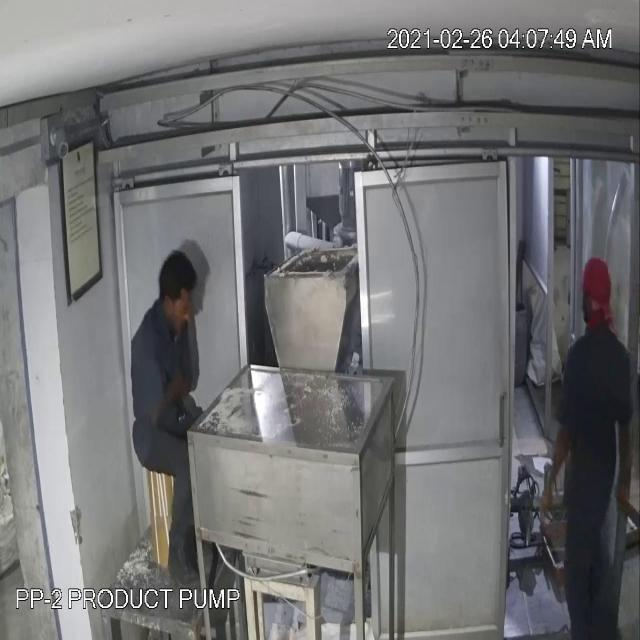no-helmet: (148, 235, 198, 305), (570, 252, 618, 310)
